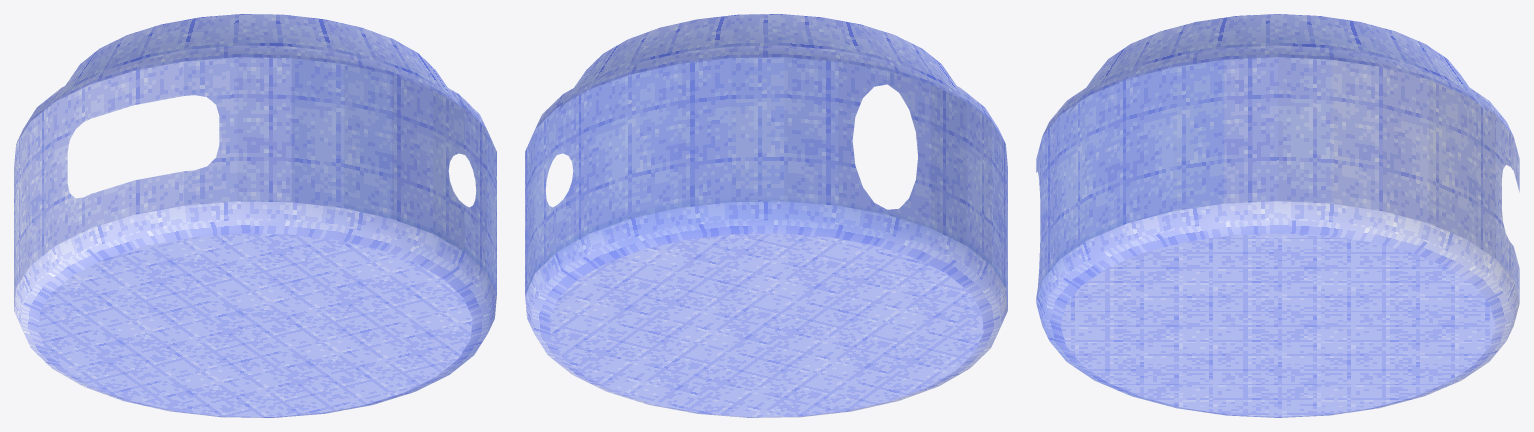
File: arch.room_shell.glb
3 renders of one model, left to right at view 1: azimuth 30°, elevation 25°; view 2: azimuth 150°, elevation 25°; view 3: azimuth 270°, elevation 25°, orthographic.
Parts seen in each view (by area): view 1: kit_shell_walls, kit_shell_floor, kit_shell_ceiling; view 2: kit_shell_walls, kit_shell_floor, kit_shell_ceiling; view 3: kit_shell_walls, kit_shell_floor, kit_shell_ceiling.
Boxes of the visible parts, x1,y1,x2,y2 form: kit_shell_walls: (14,45,496,417); kit_shell_floor: (38,233,472,416); kit_shell_ceiling: (53,14,462,109); kit_shell_walls: (525,45,1007,417); kit_shell_floor: (549,233,983,416); kit_shell_ceiling: (559,14,968,109); kit_shell_walls: (1036,45,1519,417); kit_shell_floor: (1060,233,1495,416); kit_shell_ceiling: (1067,14,1488,114).
Bounding box in the file's own units: 7 × 4.4 × 7.
Materials: 3 (3 with a texture image).
